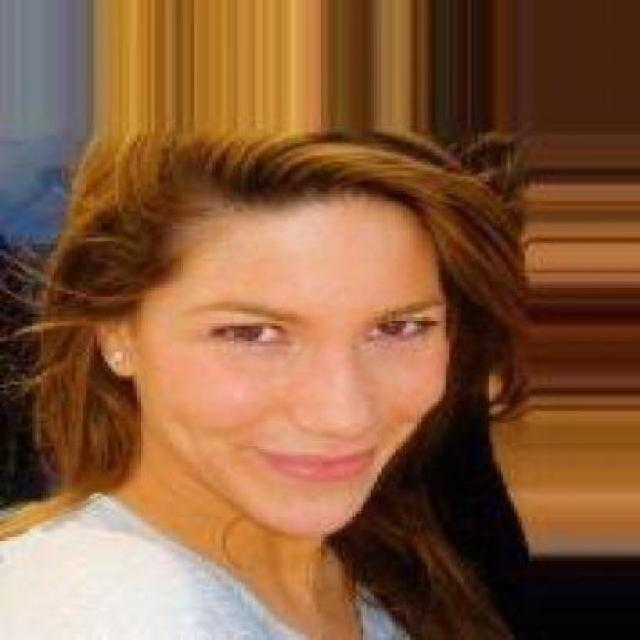closed-mouth: (260, 443, 382, 479)
